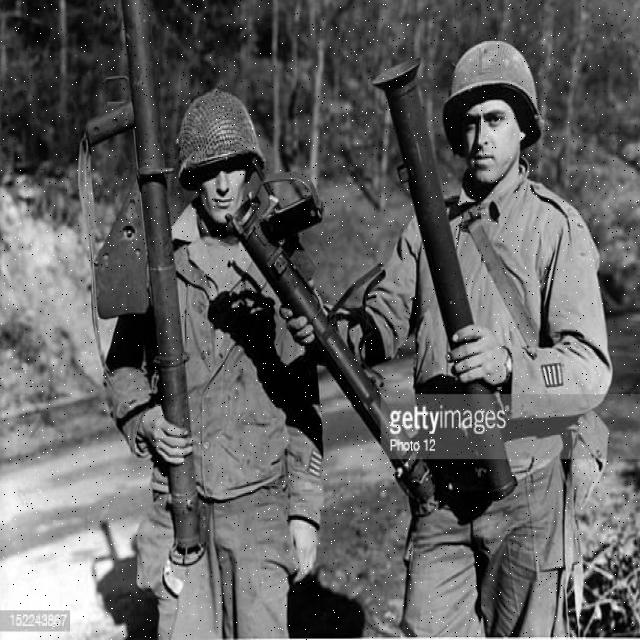bazooka: (74, 1, 211, 568)
